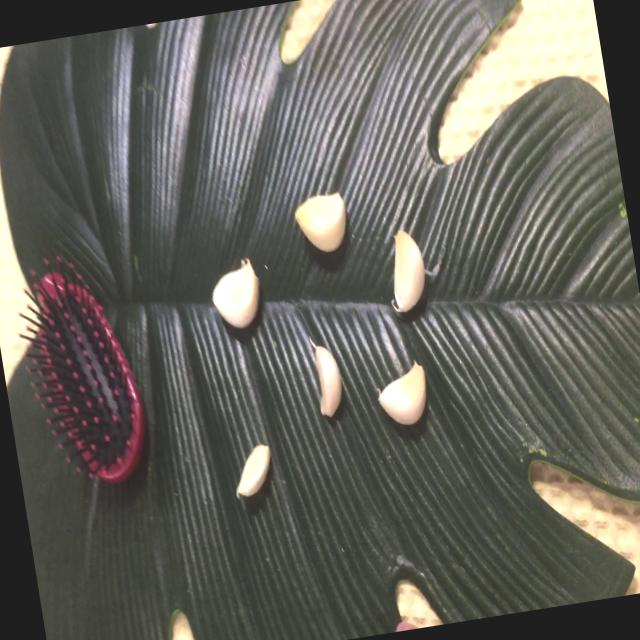garlic: (368, 352, 442, 436), (202, 254, 272, 334), (288, 185, 358, 263), (378, 225, 434, 322), (300, 336, 356, 429), (226, 434, 285, 510)
